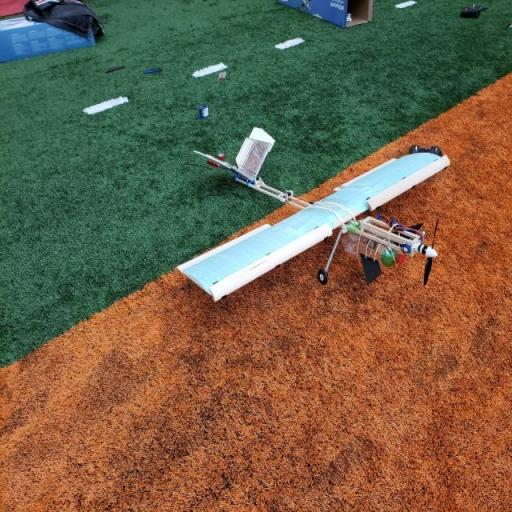uav: (166, 120, 465, 312)
